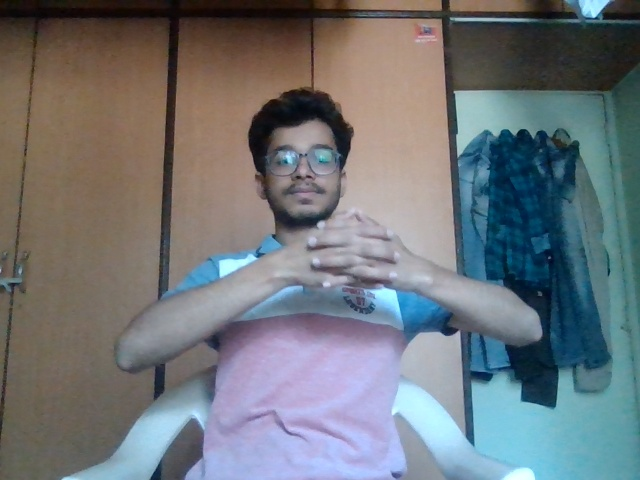good: (294, 205, 411, 310)
